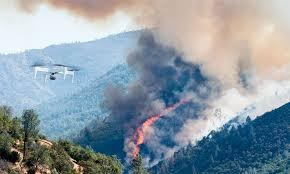drone: (27, 56, 79, 86)
